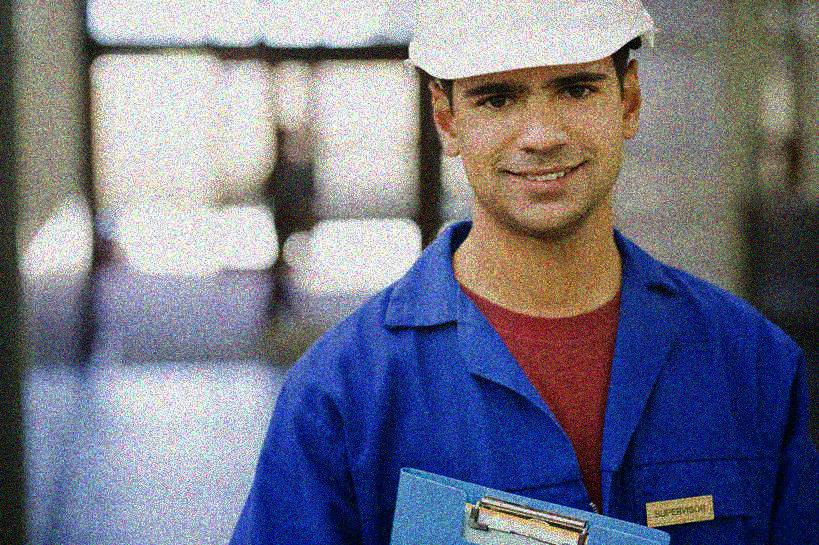helmet: (408, 1, 662, 246)
